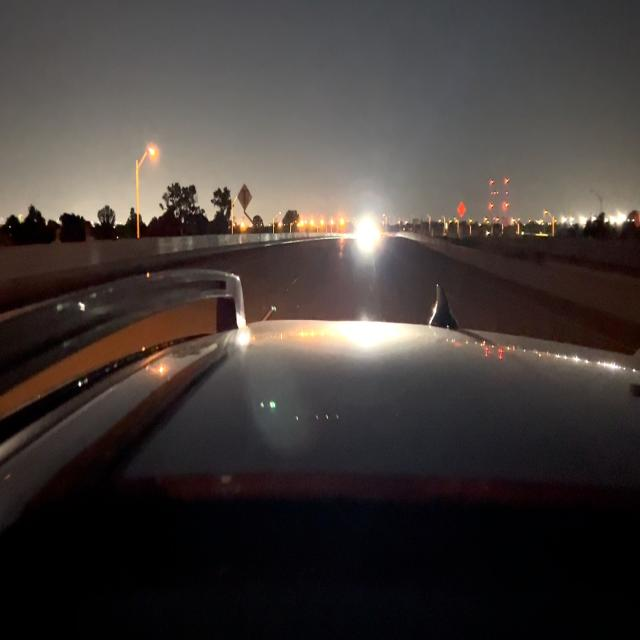back-of-sign: (239, 183, 251, 210)
